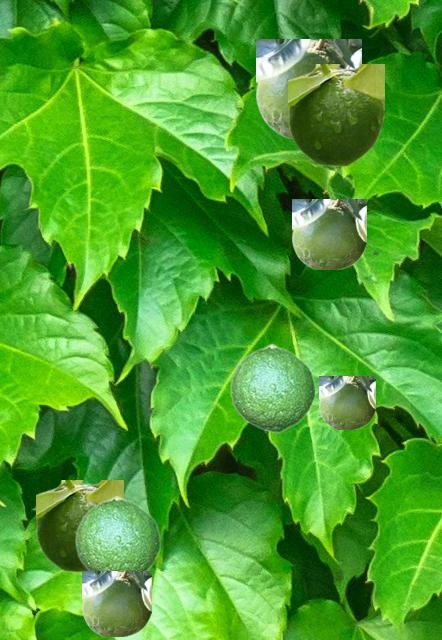dalandan: (256, 39, 360, 137), (288, 64, 383, 165), (36, 480, 122, 571), (229, 343, 315, 432), (74, 495, 160, 570), (292, 199, 365, 268), (82, 571, 150, 635), (319, 376, 374, 428)
